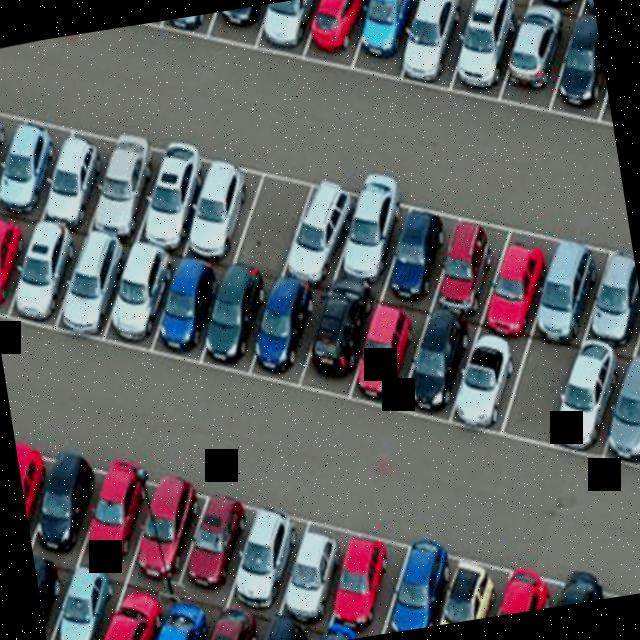car: (110, 472, 229, 599), (466, 215, 564, 350), (168, 482, 272, 604), (314, 515, 416, 638), (18, 445, 126, 561), (268, 161, 366, 284), (91, 234, 191, 354), (215, 497, 322, 609), (70, 457, 176, 569), (269, 502, 366, 622), (536, 346, 636, 462), (328, 303, 428, 418), (384, 312, 482, 428), (36, 235, 136, 348), (321, 167, 411, 286), (0, 223, 93, 337), (172, 159, 269, 268), (290, 286, 386, 396), (368, 532, 471, 634), (371, 190, 457, 312), (432, 334, 534, 436), (136, 260, 232, 368), (524, 226, 606, 350), (188, 270, 282, 378), (418, 208, 503, 324), (242, 278, 331, 386), (136, 136, 220, 248), (438, 4, 532, 104), (493, 1, 579, 108), (569, 229, 640, 353), (84, 136, 172, 234), (35, 557, 132, 640), (338, 0, 436, 82), (32, 126, 116, 220), (392, 0, 482, 87), (0, 103, 72, 207), (421, 542, 506, 626), (541, 18, 611, 119), (15, 430, 78, 540), (295, 0, 386, 71), (474, 551, 559, 618), (251, 0, 339, 61), (82, 585, 178, 640), (596, 358, 640, 475), (32, 545, 80, 640), (206, 1, 292, 52), (0, 207, 39, 319), (123, 599, 211, 640), (155, 8, 247, 46), (188, 596, 266, 640), (240, 597, 317, 640), (588, 38, 616, 139), (0, 95, 24, 190), (624, 245, 640, 370), (530, 0, 594, 13), (579, 0, 597, 24)
free: (224, 160, 320, 276), (487, 345, 590, 447)
